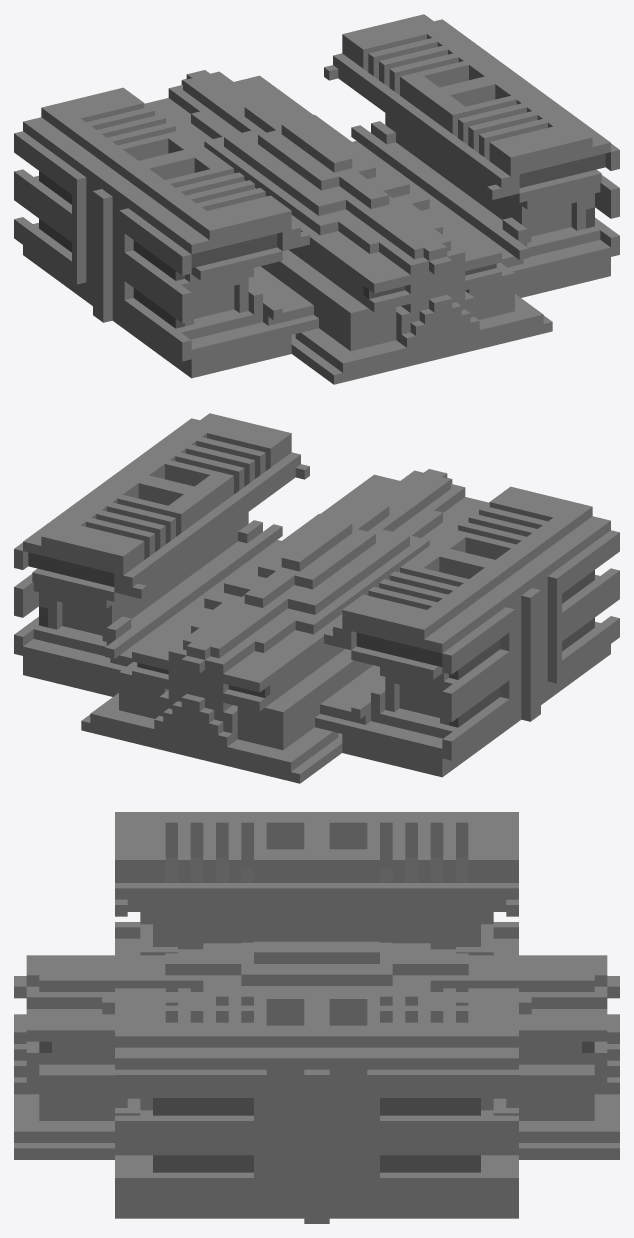
The model's file is alien_saucer3b.obj.
3 renders of one model, top to bottom at view 1: azimuth 30°, elevation 25°; view 2: azimuth 150°, elevation 25°; view 3: azimuth 270°, elevation 25°, orthographic. The views are drawn at different scales.
Size of the model in its own units: 48 by 15 by 48.
